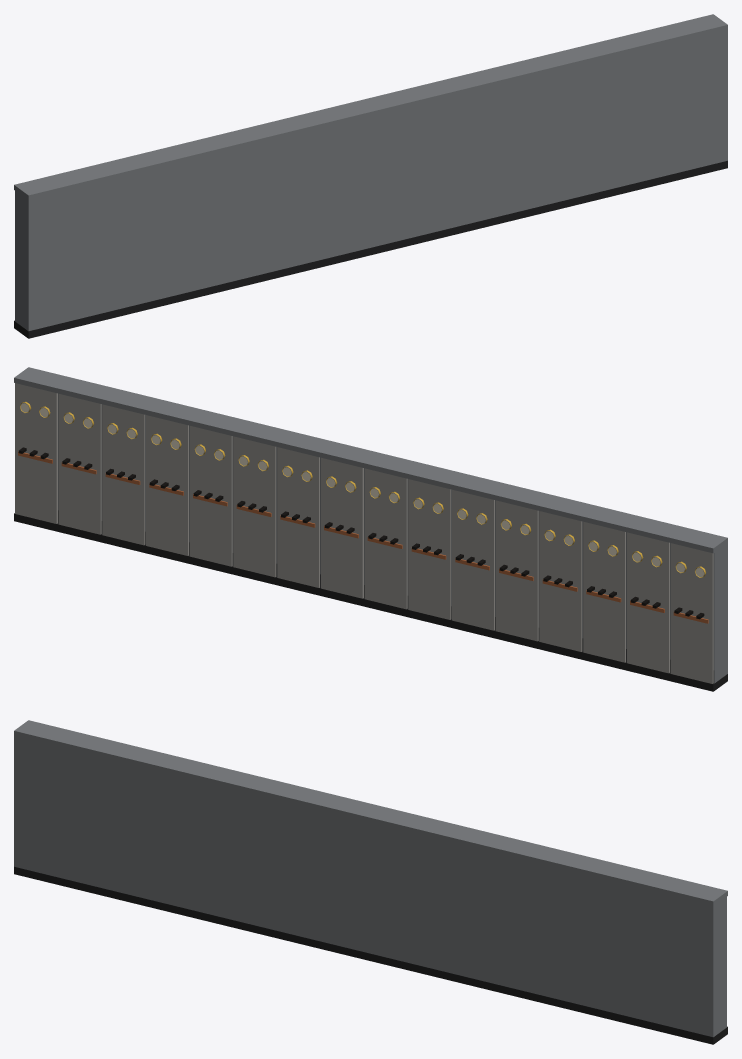
File: parametric-source-switchboard-orlop-f22.glb
The picture shows the model from 3 angles, top to bottom: view 1: azimuth 30°, elevation 25°; view 2: azimuth 150°, elevation 25°; view 3: azimuth 330°, elevation 25°; orthographic projection.
Parts seen in each view (by area): view 1: parametric-source-switchboard-orlop-f22; view 2: parametric-source-switchboard-orlop-f22; view 3: parametric-source-switchboard-orlop-f22.
Part boxes in pixels (<box>): parametric-source-switchboard-orlop-f22: <box>14,14,727,338</box>; parametric-source-switchboard-orlop-f22: <box>14,367,727,691</box>; parametric-source-switchboard-orlop-f22: <box>14,720,727,1044</box>.
Bounding box in the file's own units: 11.74 × 2.3 × 0.553.
